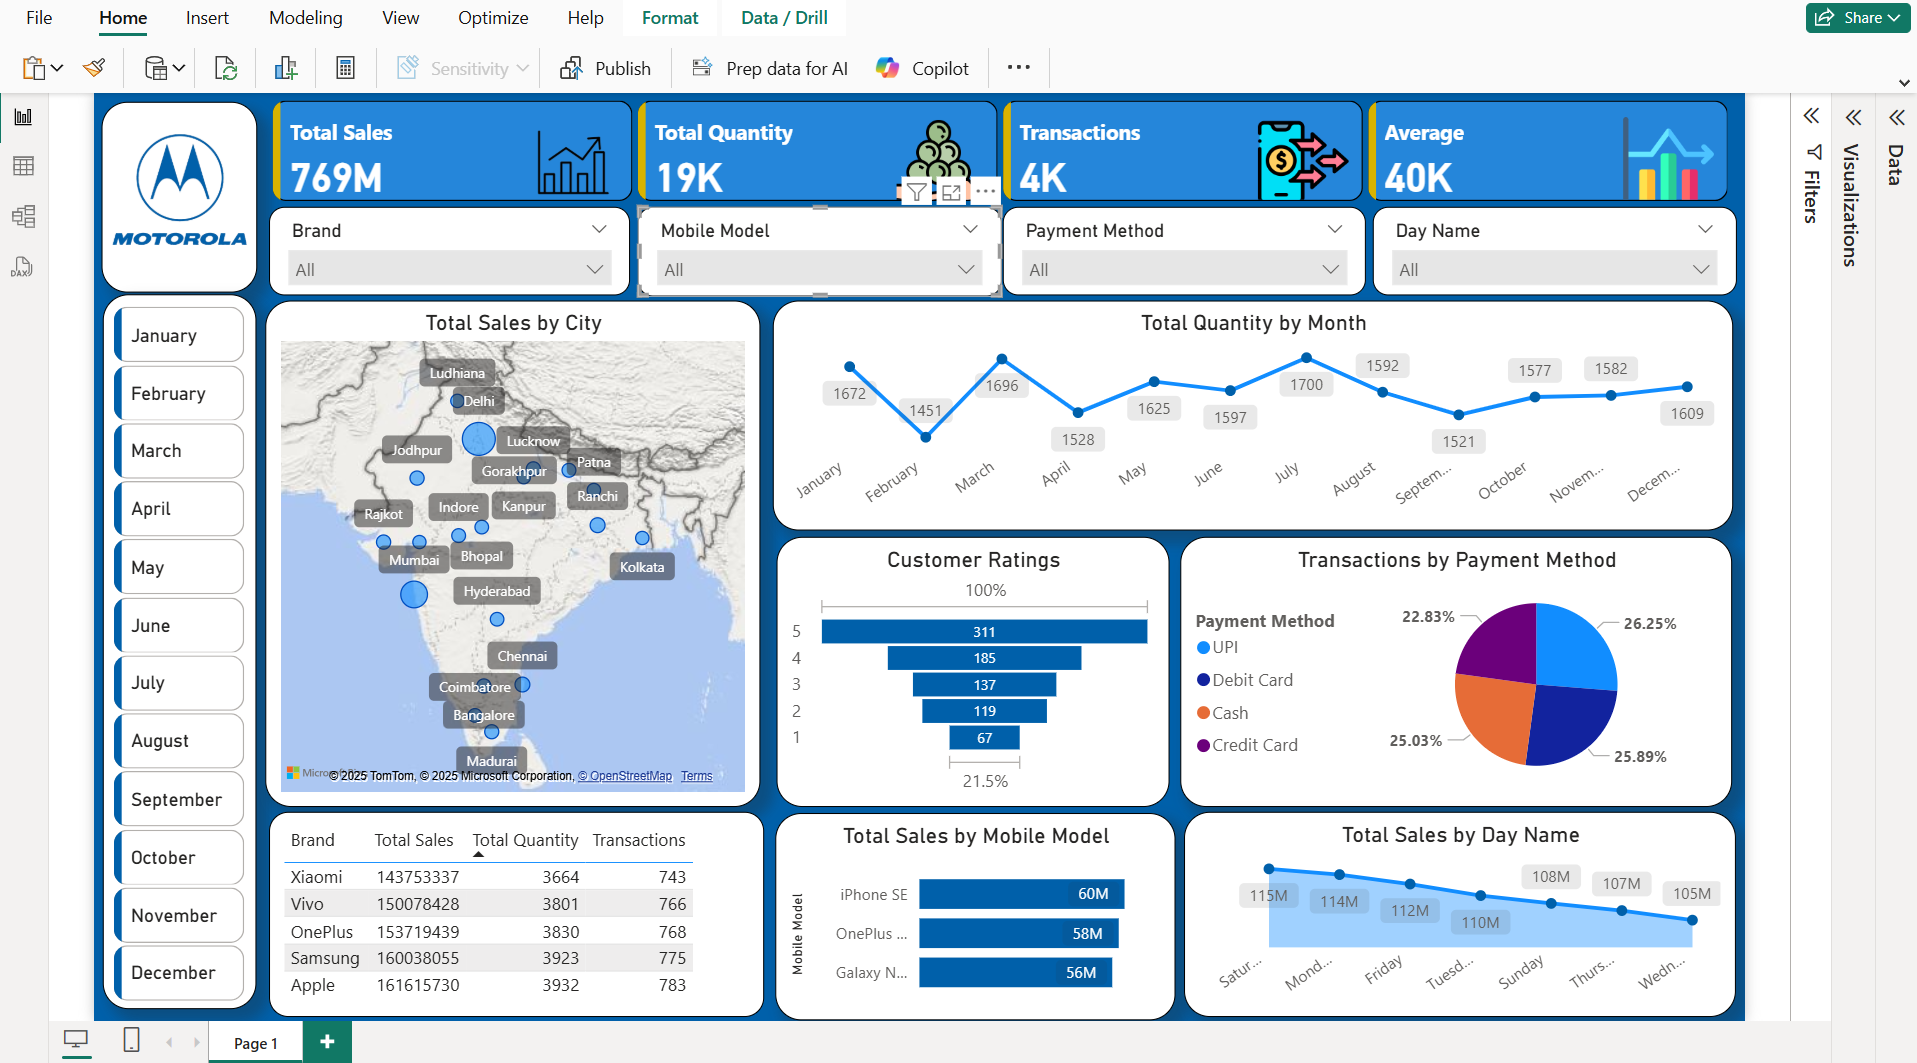

Layout of this report page (visuals, bound fields, positions):
{"tool":"powerbi","page":{"name":"Page 1","canvas":[1280,720],"ordinal":0},"visuals":[{"type":"shape","box":[5.5,6.9,120.8,148.2],"z":0},{"type":"image","box":[9.6,16.5,113.9,116.6],"z":1000},{"type":"shape","box":[6.9,156.4,119.4,554.4],"z":2000},{"type":"advancedSlicerVisual","fields":{"Values":["Sales_Data.Date.Variation.Date Hierarchy.Month"]},"box":[11,160.5,111.1,548.9],"z":3000},{"type":"cardVisual","fields":{"Data":["Sales_Data.Total Sales","Sales_Data.Total Quantity","Sales_Data.Transactions","Sales_Data.Average"]},"box":[134,5.6,1140.1,83.7],"z":4000},{"type":"map","fields":{"Category":["Sales_Data.City"],"Size":["Sales_Data.Total Sales"]},"box":[132.9,160.8,384.1,393.1],"z":5000},{"type":"lineChart","fields":{"Y":["Sales_Data.Total Quantity"],"Category":["Sales_Data.Date.Variation.Date Hierarchy.Month","Sales_Data.Date.Variation.Date Hierarchy.Day"]},"box":[525.9,160.8,744.8,178.7],"z":6000},{"type":"clusteredBarChart","fields":{"Category":["Sales_Data.Mobile Model"],"Y":["Sales_Data.Total Sales"]},"box":[528.3,558.5,310.1,160.5],"z":7000},{"type":"pieChart","fields":{"Category":["Sales_Data.Payment Method"],"Y":["Sales_Data.Transactions"]},"box":[842.5,344.4,428.1,209.9],"z":8000},{"type":"funnel","title":"Customer Ratings","fields":{"Category":["Sales_Data.Customer Ratings"],"Y":["CountNonNull(Sales_Data.Customer Ratings)"]},"box":[529.7,344.4,304.6,209.9],"z":9000},{"type":"areaChart","fields":{"Category":["Sales_Data.Day Name"],"Y":["Sales_Data.Total Sales"]},"box":[845.3,557.1,428.1,159.2],"z":10000},{"type":"tableEx","fields":{"Values":["Sales_Data.Brand","Sales_Data.Total Sales","Sales_Data.Total Quantity","Sales_Data.Transactions"]},"box":[135.8,557.1,384.2,159.2],"z":11000},{"type":"slicer","fields":{"Values":["Sales_Data.Mobile Model"]},"box":[421.6,88.2,282.1,69.8],"z":12000},{"type":"slicer","fields":{"Values":["Sales_Data.Payment Method"]},"box":[704.6,88.3,281.6,68.6],"z":13000},{"type":"slicer","fields":{"Values":["Sales_Data.Brand"]},"box":[135.7,88.2,280.1,68.8],"z":14000},{"type":"slicer","fields":{"Values":["Sales_Data.Day Name"]},"box":[991.6,88.2,282.1,68.8],"z":15000}]}

Visuals, with their boxes on the page's 1280x720 design canvas (x1, y1, x2, y2). These are canvas units, not pixel positions in the 1917x1063 screenshot, which may show the page scaled, cropped or inside an application window:
shape: <box>6,7,126,155</box>
image: <box>10,16,124,133</box>
shape: <box>7,156,126,711</box>
advancedSlicerVisual - Sales_Data.Date.Variation.Date Hierarchy.Month: <box>11,160,122,709</box>
cardVisual - Sales_Data.Total Sales x Sales_Data.Total Quantity: <box>134,6,1274,89</box>
map - Sales_Data.City x Sales_Data.Total Sales: <box>133,161,517,554</box>
lineChart - Sales_Data.Total Quantity x Sales_Data.Date.Variation.Date Hierarchy.Month: <box>526,161,1271,340</box>
clusteredBarChart - Sales_Data.Mobile Model x Sales_Data.Total Sales: <box>528,558,838,719</box>
pieChart - Sales_Data.Payment Method x Sales_Data.Transactions: <box>842,344,1271,554</box>
"Customer Ratings" funnel: <box>530,344,834,554</box>
areaChart - Sales_Data.Day Name x Sales_Data.Total Sales: <box>845,557,1273,716</box>
tableEx - Sales_Data.Brand x Sales_Data.Total Sales: <box>136,557,520,716</box>
slicer - Sales_Data.Mobile Model: <box>422,88,704,158</box>
slicer - Sales_Data.Payment Method: <box>705,88,986,157</box>
slicer - Sales_Data.Brand: <box>136,88,416,157</box>
slicer - Sales_Data.Day Name: <box>992,88,1274,157</box>
